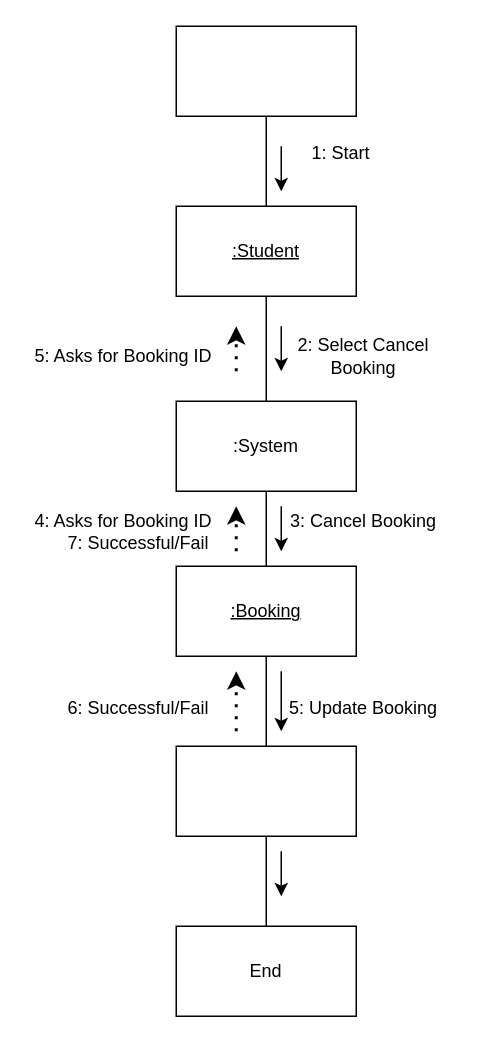
Image size: 486x1043. Some labels were removed from this diagram. The shapes that lost their labels are listed below. From the top down, each one's box as (x1, y1, x2, y2) in pixels, then its label:
(175, 25, 356, 116): Initialization
(175, 745, 356, 836): :DB
